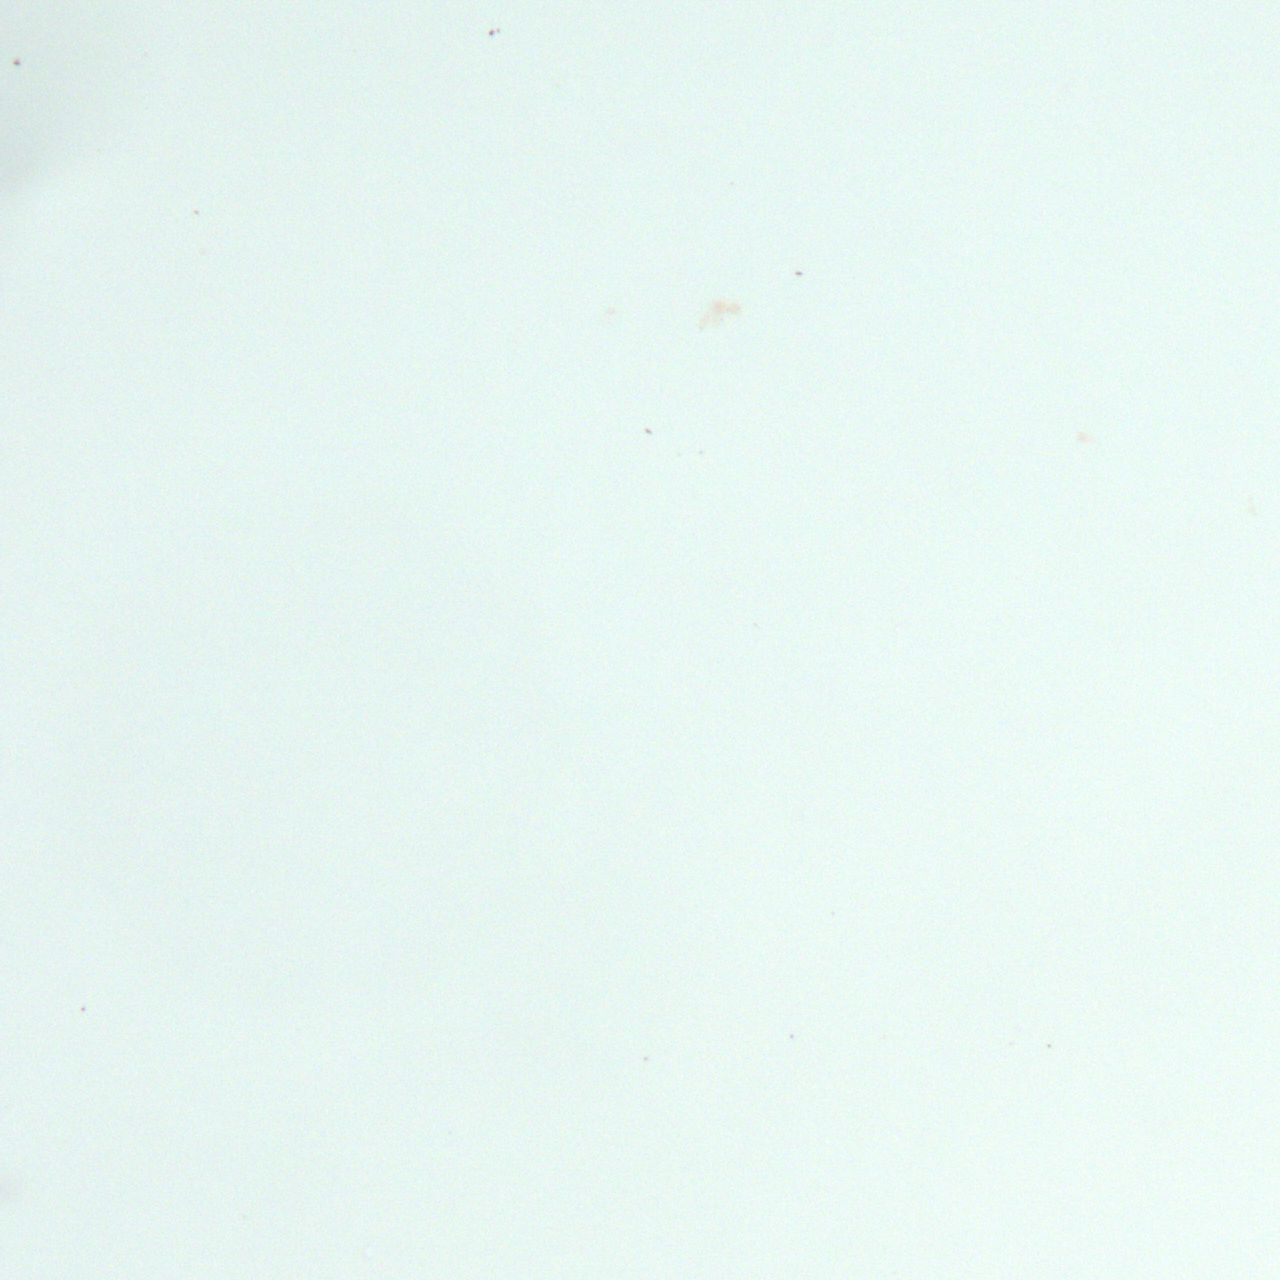dust: (794, 268, 804, 277), (644, 428, 652, 435), (12, 59, 20, 66), (496, 26, 502, 34), (488, 29, 496, 35), (193, 209, 199, 215), (1047, 1044, 1053, 1050), (787, 1034, 794, 1039), (642, 1055, 647, 1060)
